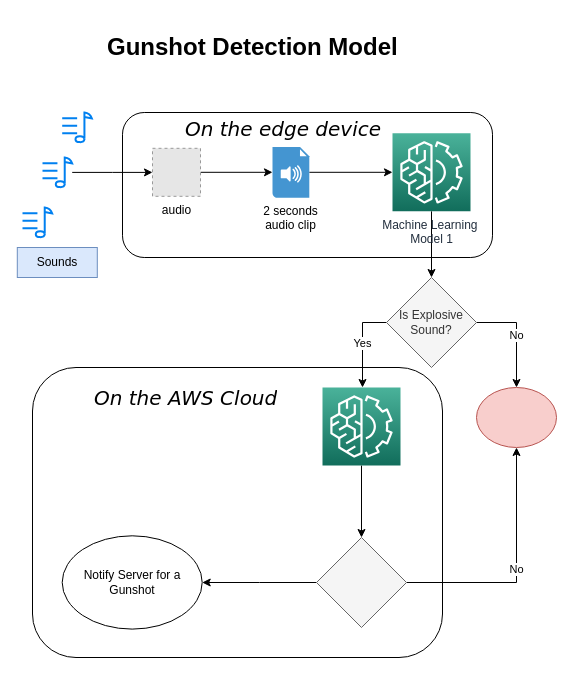
The diagram is 575 pixels wide and 675 high, and some of its shapes have lost their labels. Grey dashed boxes stand in for pictures. The box of each missing label's shape, as (x1, y1, x2, y2) in pixels:
Is Gunshot?: (316, 536, 406, 628)
Machine Learning Model 2: (322, 386, 400, 466)
Skip: (476, 386, 556, 448)
